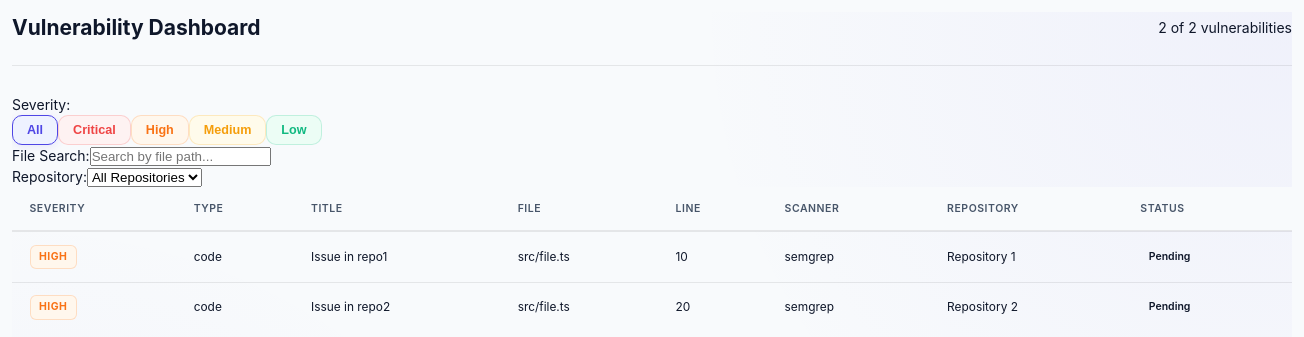
Test: VulnerabilityDashboard Component › Unit Tests › should filter vulnerabilities by repository
The width and height of the screenshot is (1304, 337).
Expected: the text "Issue in repo1" is shown, [294,231,500,282]
Note: Select repository filter
Select "Repository 1" in the dropdown named "Filter by repository": (144, 177) [87,168,202,186]
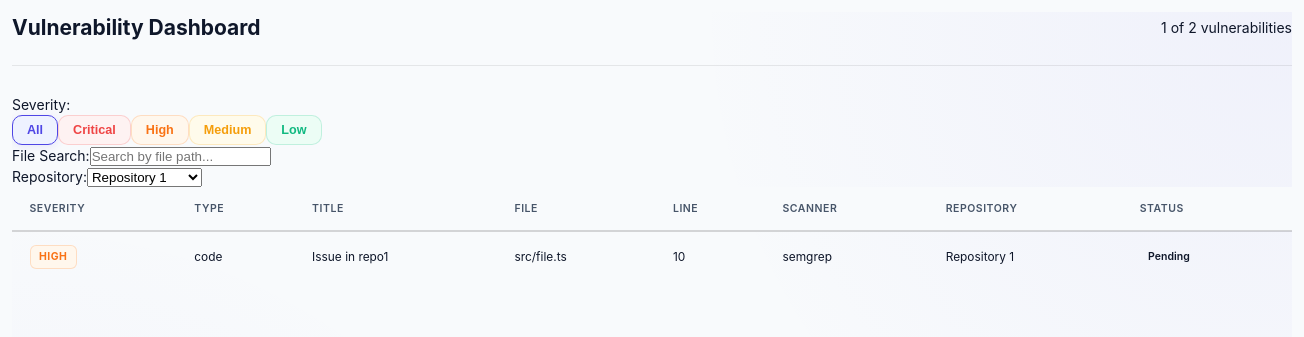
Expected: the text "Issue in repo1" is shown, [295,231,497,282]
Result: the button "Issue in repo2" is gone
